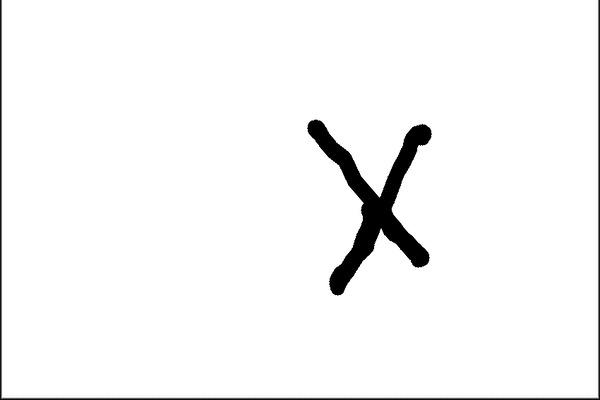X: (289, 100, 451, 298)
